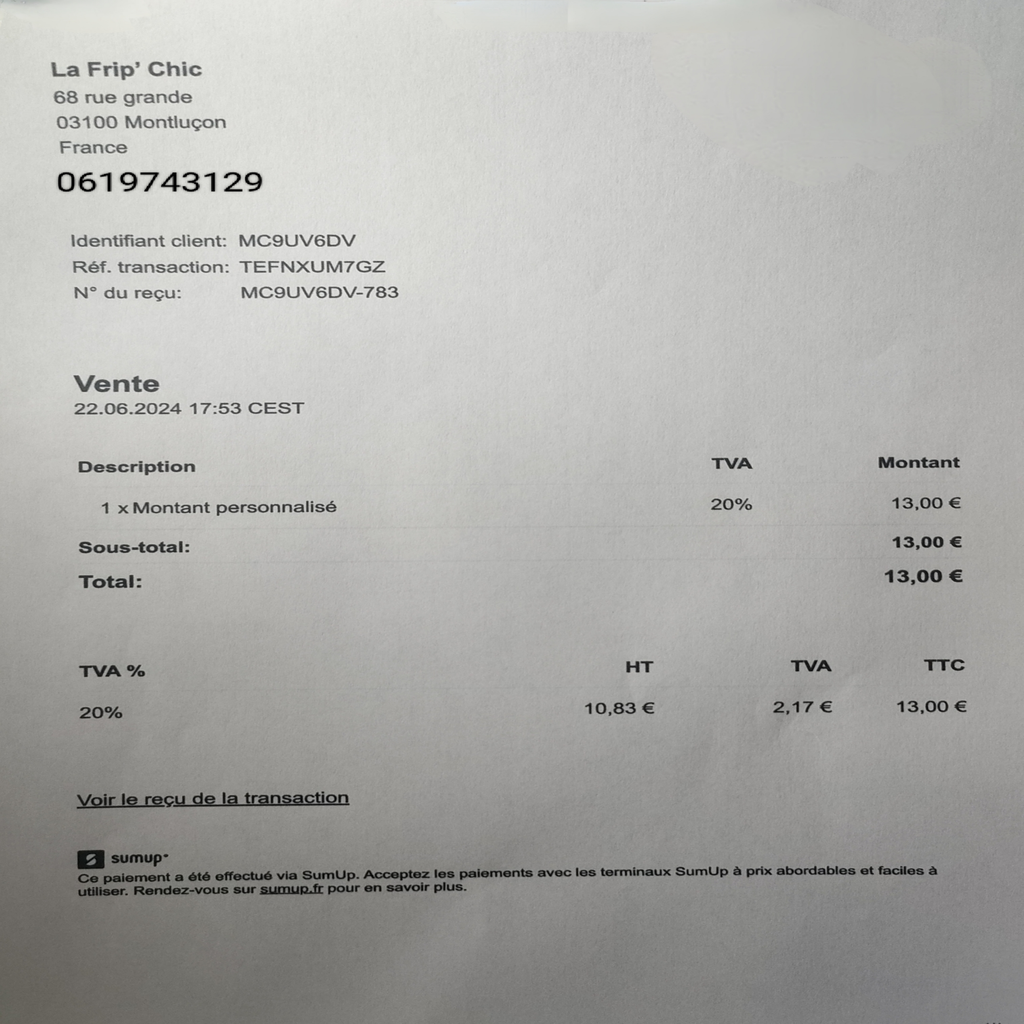recipt: (0, 0, 1022, 1016)
